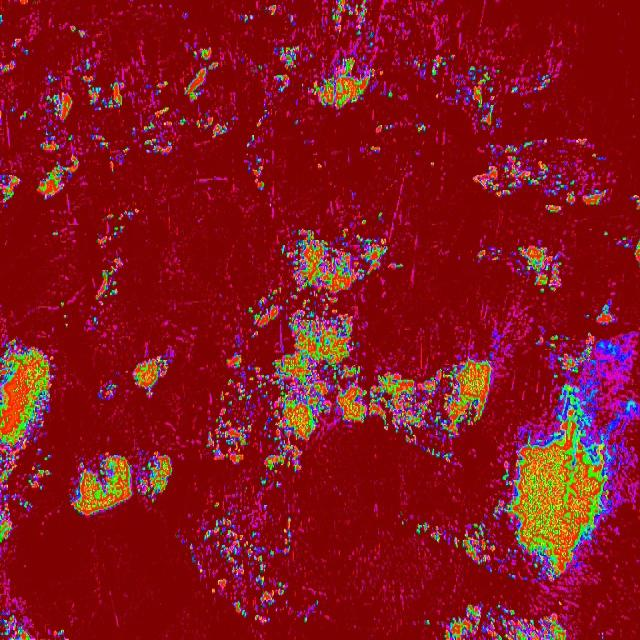fire: (206, 224, 493, 494), (502, 383, 618, 582), (188, 494, 294, 625), (0, 337, 55, 548), (472, 138, 610, 214), (534, 331, 640, 382), (442, 601, 570, 640), (69, 448, 132, 518), (314, 52, 375, 109), (464, 65, 501, 133), (514, 244, 562, 296), (132, 447, 174, 504), (182, 42, 222, 100), (40, 90, 74, 152), (95, 206, 144, 246), (463, 521, 498, 575), (94, 251, 126, 309), (242, 93, 274, 151), (36, 159, 80, 199), (130, 352, 168, 398), (327, 0, 368, 39), (82, 75, 125, 109), (142, 119, 178, 157), (417, 520, 462, 550), (192, 112, 236, 142), (413, 52, 458, 76), (243, 150, 266, 194), (0, 610, 33, 640), (92, 133, 116, 172), (0, 171, 21, 209), (276, 41, 300, 73), (622, 397, 638, 429), (301, 595, 320, 621), (452, 73, 463, 106), (534, 74, 552, 94), (274, 75, 294, 93), (68, 22, 90, 38), (98, 382, 116, 401), (613, 236, 633, 252), (117, 142, 129, 166), (154, 78, 170, 96), (16, 107, 32, 124), (0, 58, 19, 72), (491, 498, 502, 522), (73, 59, 94, 71), (152, 103, 170, 117), (492, 244, 503, 266), (48, 629, 68, 640), (630, 192, 640, 212), (367, 142, 383, 154), (368, 30, 377, 50), (238, 12, 256, 22), (262, 4, 278, 15), (396, 510, 406, 526), (634, 240, 640, 266), (10, 38, 21, 52), (251, 64, 265, 75), (175, 531, 186, 545), (91, 313, 100, 329), (62, 313, 71, 329), (417, 121, 428, 134), (380, 122, 394, 132), (287, 15, 296, 30), (130, 125, 139, 140), (46, 74, 58, 85), (386, 89, 396, 100), (510, 86, 520, 96), (50, 230, 62, 238), (602, 230, 611, 240), (425, 617, 433, 628), (59, 299, 67, 309), (182, 10, 190, 20), (180, 115, 187, 126), (428, 160, 436, 169), (293, 116, 300, 126), (378, 210, 384, 221), (0, 14, 5, 27), (24, 48, 31, 57), (307, 52, 313, 62), (362, 217, 368, 224), (10, 105, 14, 113), (34, 335, 34, 337)
